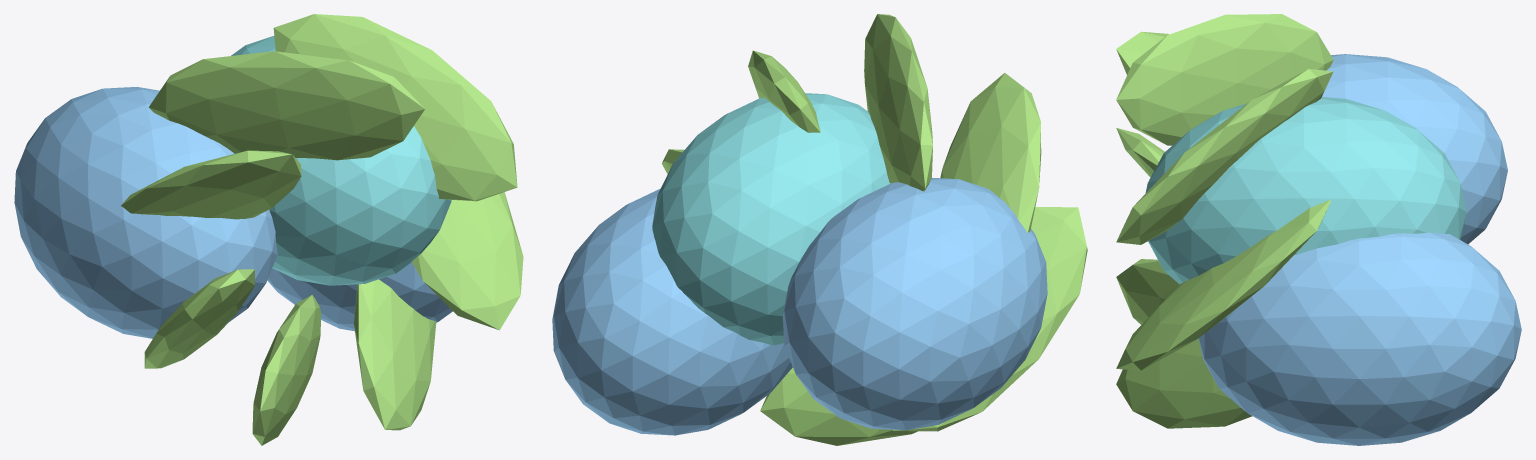
File: kelpfruit-4102.glb
The picture shows the model from 3 angles, left to right: view 1: azimuth 30°, elevation 25°; view 2: azimuth 150°, elevation 25°; view 3: azimuth 270°, elevation 25°; orthographic projection. The views are drawn at different scales.
Visible parts, largest first — view 1: fruit0, kelp2, fruit1, kelp1, kelp0, kelp6, kelp3, kelp5, kelp4, fruit2; view 2: fruit0, fruit1, fruit2, kelp3, kelp2, kelp4, kelp5, kelp1; view 3: fruit2, fruit1, kelp2, fruit0, kelp0, kelp1, kelp6, kelp5, kelp4, kelp3.
Boxes of the visible parts, x1=… form: fruit0: x1=14, y1=87, x2=277, y2=338; kelp2: x1=148, y1=51, x2=424, y2=160; fruit1: x1=231, y1=36, x2=451, y2=285; kelp1: x1=273, y1=14, x2=517, y2=201; kelp0: x1=411, y1=192, x2=523, y2=330; kelp6: x1=354, y1=279, x2=436, y2=430; kelp3: x1=121, y1=150, x2=301, y2=219; kelp5: x1=252, y1=295, x2=321, y2=445; kelp4: x1=144, y1=269, x2=254, y2=368; fruit2: x1=267, y1=262, x2=452, y2=331; fruit0: x1=783, y1=178, x2=1047, y2=430; fruit1: x1=652, y1=93, x2=889, y2=345; fruit2: x1=552, y1=188, x2=792, y2=435; kelp3: x1=940, y1=73, x2=1041, y2=232; kelp2: x1=864, y1=14, x2=932, y2=191; kelp4: x1=893, y1=207, x2=1087, y2=431; kelp5: x1=760, y1=367, x2=917, y2=445; kelp1: x1=748, y1=50, x2=820, y2=132; fruit2: x1=1198, y1=232, x2=1521, y2=445; fruit1: x1=1145, y1=97, x2=1466, y2=284; kelp2: x1=1116, y1=14, x2=1333, y2=145; fruit0: x1=1322, y1=54, x2=1507, y2=244; kelp0: x1=1116, y1=200, x2=1330, y2=370; kelp1: x1=1116, y1=69, x2=1333, y2=244; kelp6: x1=1116, y1=338, x2=1252, y2=428; kelp5: x1=1116, y1=259, x2=1179, y2=324; kelp4: x1=1116, y1=128, x2=1164, y2=177; kelp3: x1=1116, y1=31, x2=1168, y2=74.
Bounding box in the file's own units: 2.7 × 2.31 × 2.26.
